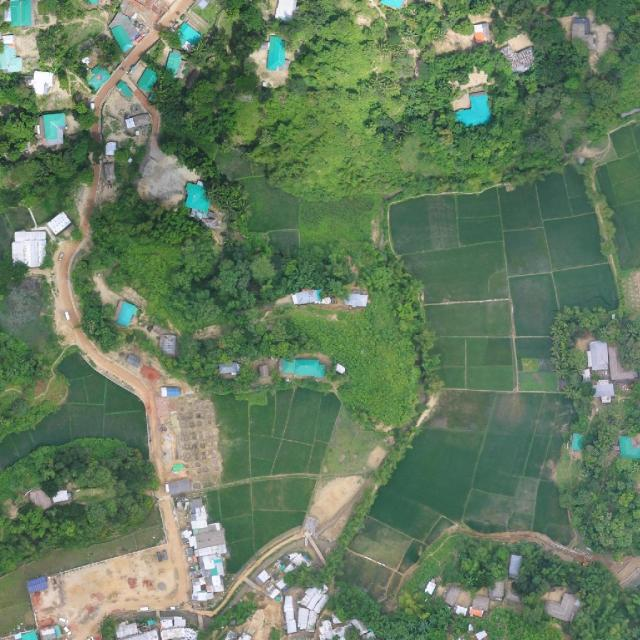agricultural_land: (381, 151, 637, 416), (344, 388, 576, 602), (202, 382, 342, 579), (240, 174, 300, 255), (240, 172, 301, 234), (215, 145, 265, 182), (91, 414, 98, 419)
building: (185, 497, 230, 602), (298, 578, 334, 616), (455, 92, 490, 127), (82, 62, 113, 92), (172, 21, 203, 51), (0, 35, 22, 72), (42, 112, 69, 141), (109, 23, 135, 53), (280, 594, 298, 634), (135, 67, 160, 93), (162, 49, 185, 76), (10, 0, 31, 26), (114, 79, 135, 99), (38, 625, 63, 640), (319, 620, 332, 640), (308, 620, 314, 630)
dryland: (155, 387, 229, 493), (301, 460, 368, 528)
greenland: (278, 238, 483, 444), (65, 168, 262, 351), (139, 0, 282, 162), (0, 74, 92, 222), (0, 275, 70, 439), (550, 306, 639, 419), (560, 456, 640, 556), (202, 233, 285, 318), (27, 19, 90, 92), (442, 535, 511, 593), (280, 245, 356, 296), (580, 396, 628, 468), (581, 70, 622, 112)
